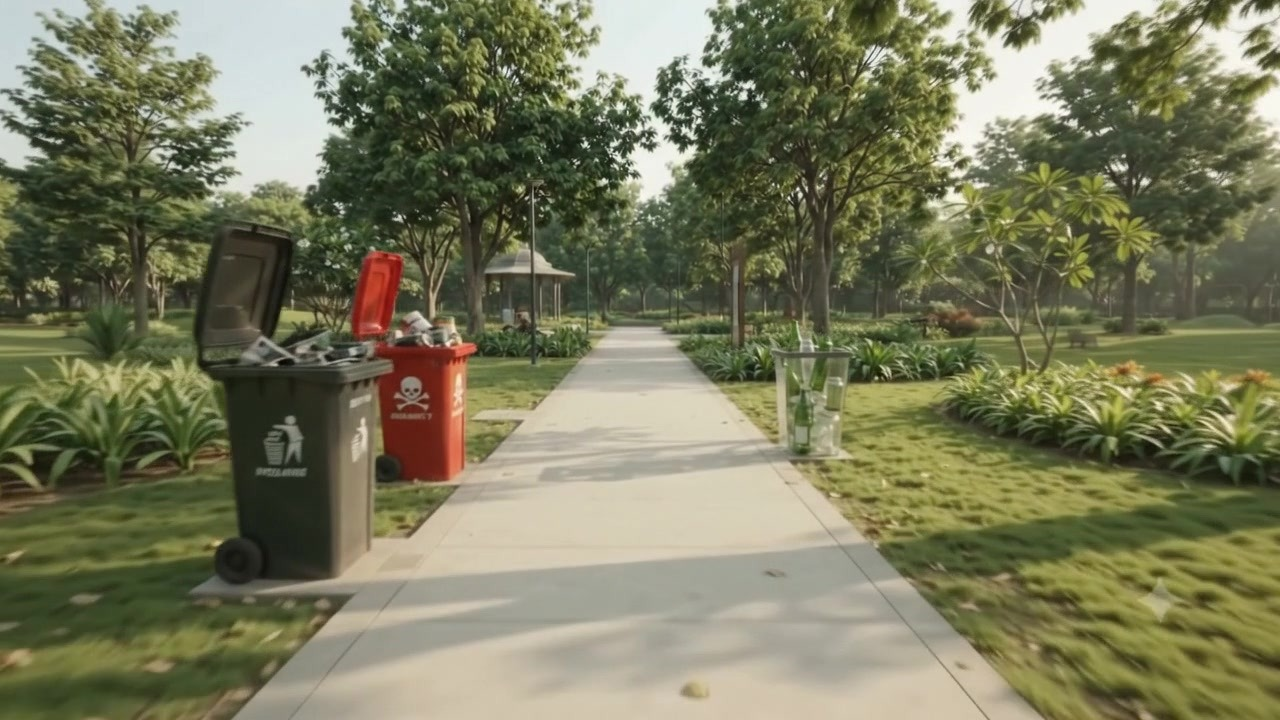ewaste: (192, 216, 384, 605)
